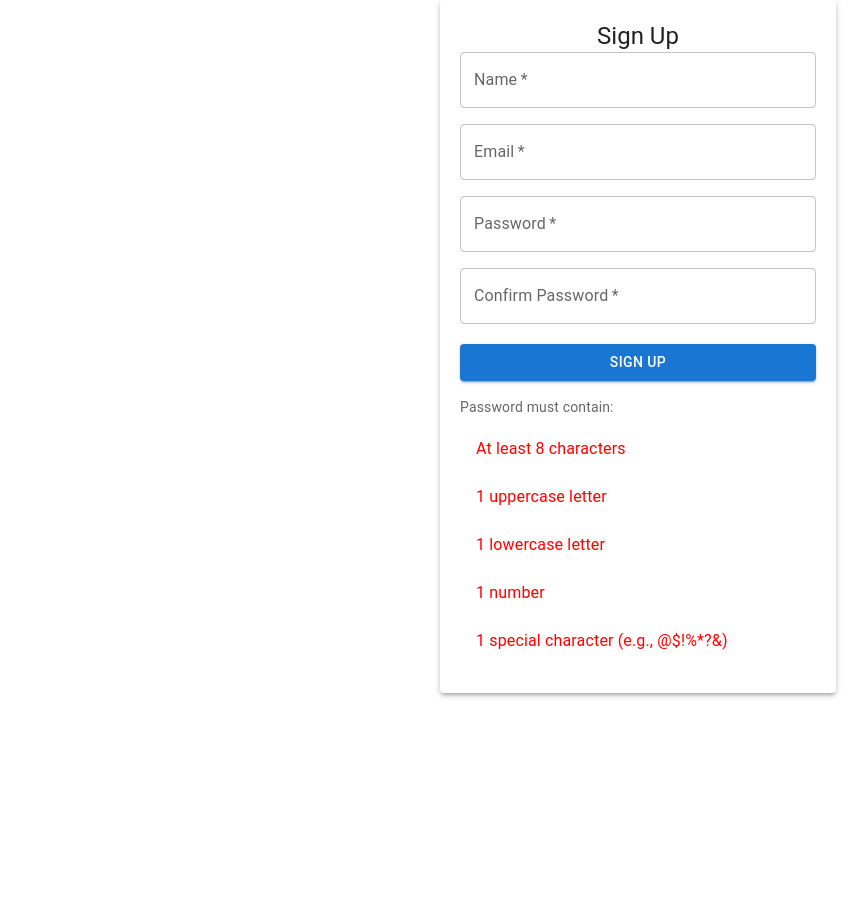
Test: Signup Component › displays error message for weak password
Type "Test User" into the field labelled "Name *" at (638, 80), box top-left (460, 52), bottom-right (816, 108)
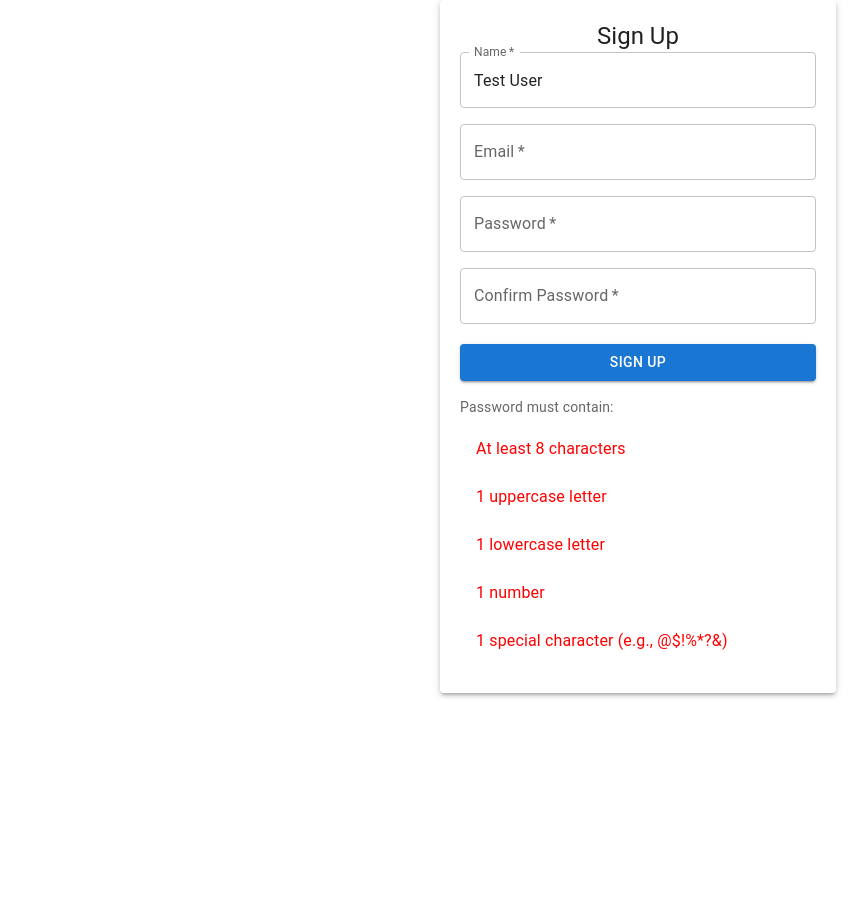
Type "test@example.com" into the field labelled "Email *" at (638, 152), box top-left (460, 124), bottom-right (816, 180)
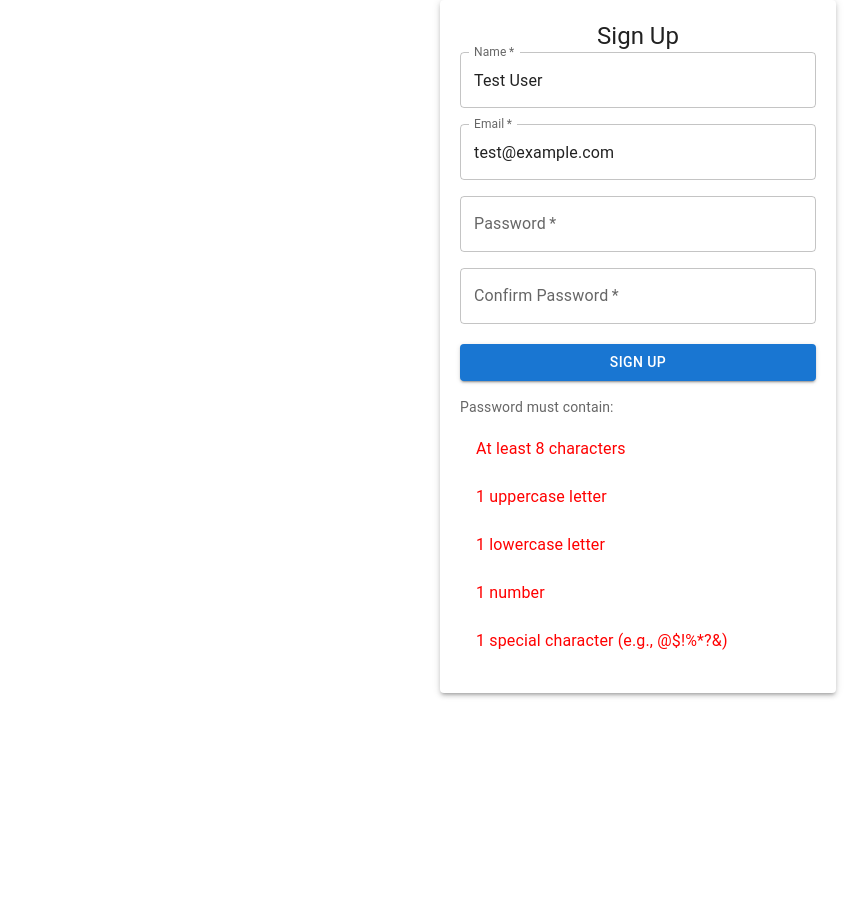
Type "weak" into the password field labelled "Password *" at (638, 224), box top-left (460, 196), bottom-right (816, 252)
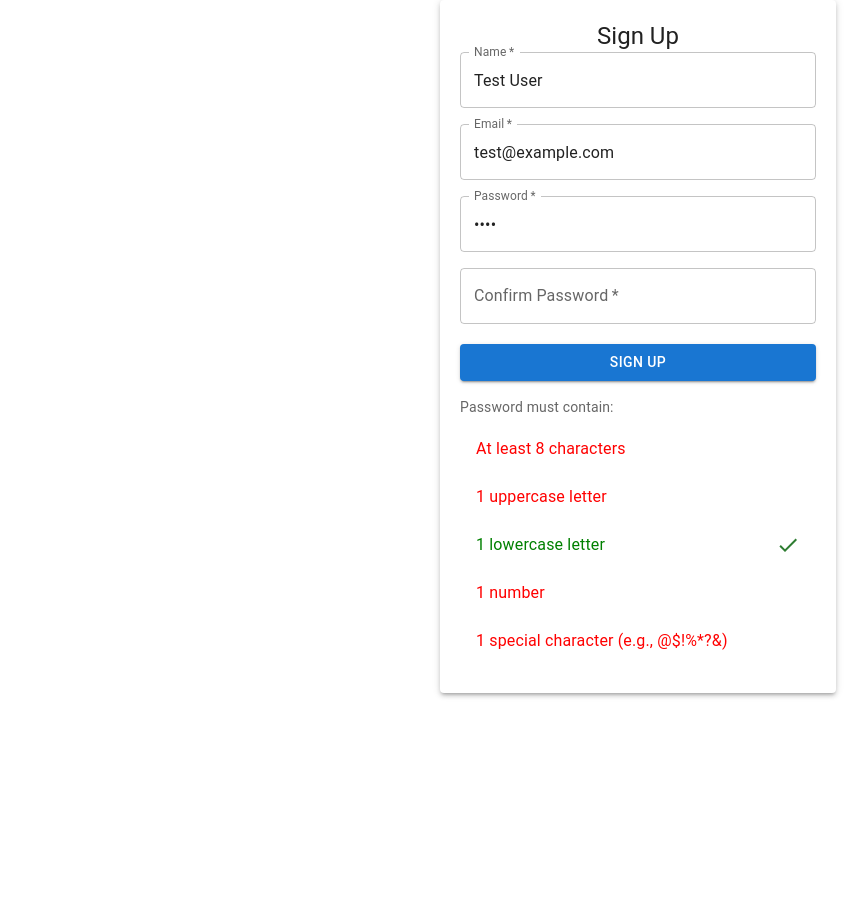
Type "weak" into the password field labelled "Confirm Password *" at (638, 296), box top-left (460, 268), bottom-right (816, 324)
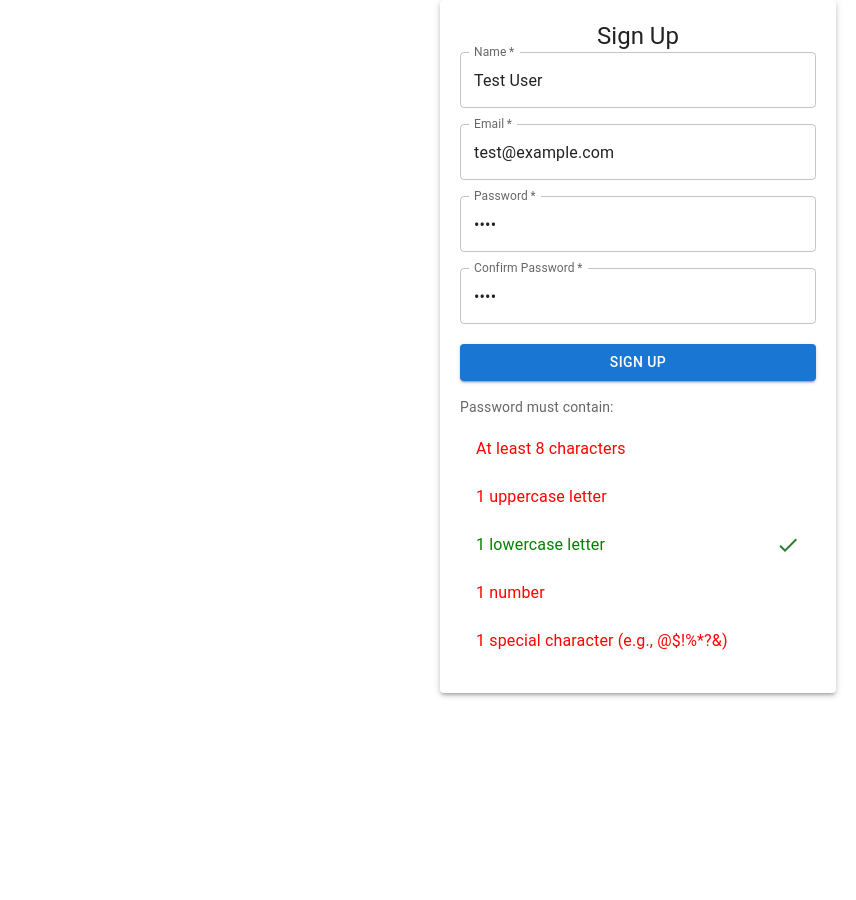
Click the button "Sign Up" at (638, 362), box top-left (460, 344), bottom-right (816, 380)
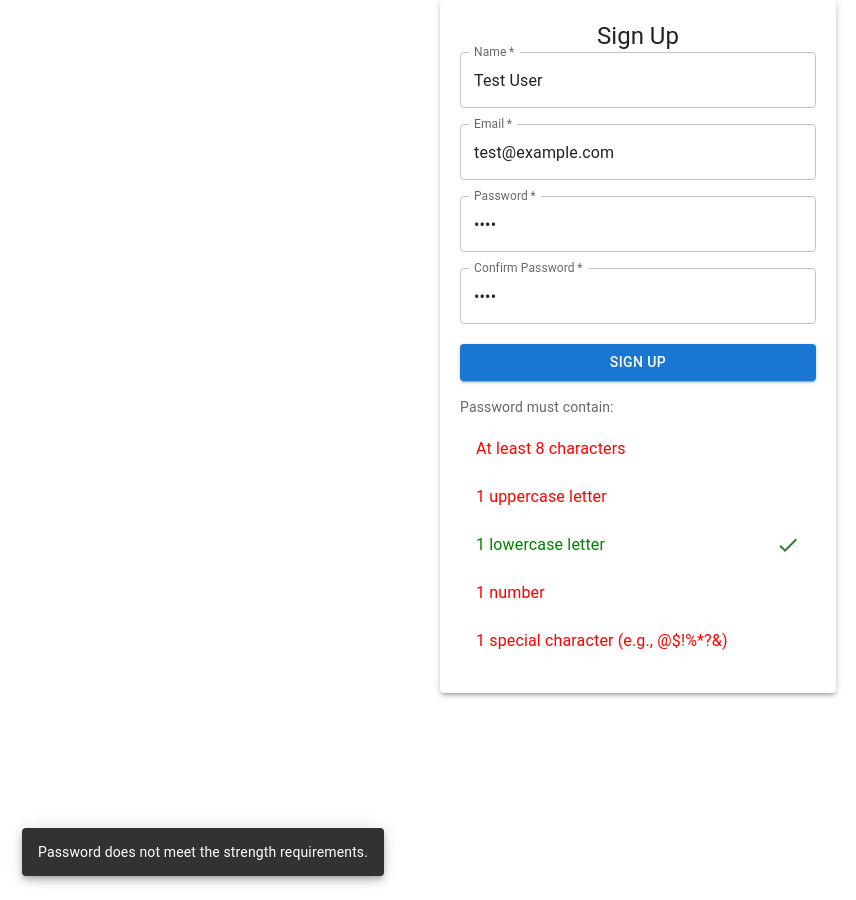
Result: the text "Password does not meet the strength requirements." is shown at top-left (38, 844), bottom-right (368, 860)
